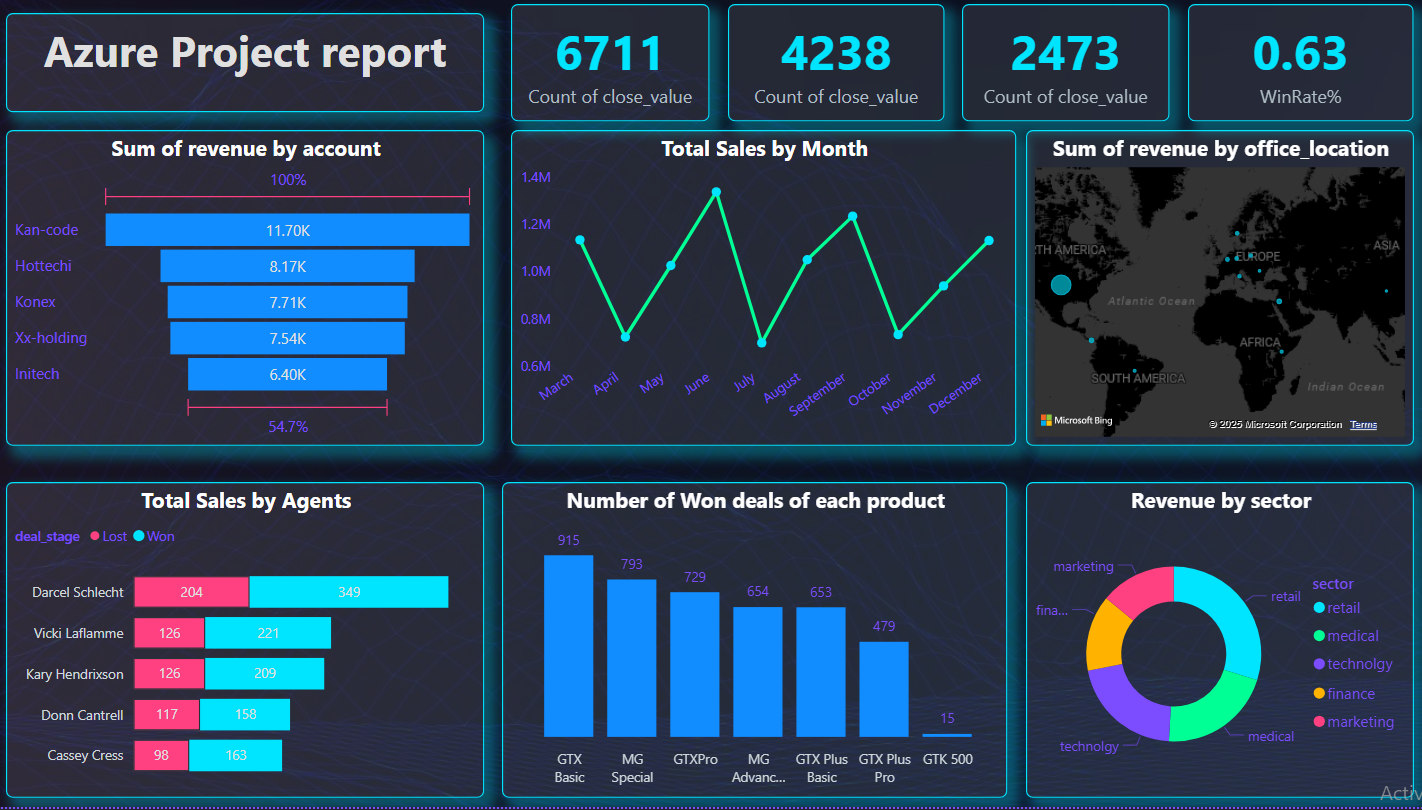

Layout of this report page (visuals, bound fields, positions):
{"tool":"powerbi","page":{"name":"Page 1","canvas":[1280,720],"ordinal":0},"visuals":[{"type":"barChart","title":"Total Sales by Agents","fields":{"Category":["Sales_pipeline.sales_agent"],"Y":["Sales_pipeline.close_value"],"Series":["Sales_pipeline.deal_stage"]},"box":[16,432,424,280],"z":0},{"type":"lineChart","title":"Total Sales by Month","fields":{"Y":["Sales_pipeline.close_value"],"Category":["Sales_pipeline.close_date.Variation.Date Hierarchy.Month"]},"box":[464,120,448,280],"z":1000},{"type":"map","fields":{"Category":["Accounts.office_location"],"Size":["Accounts.revenue"]},"box":[920,120,344,280],"z":2000},{"type":"funnel","fields":{"Y":["Accounts.revenue"],"Category":["Accounts.account"]},"box":[16,120,424,280],"z":3000},{"type":"columnChart","title":"Number of Won deals of each product","fields":{"Category":["Sales_pipeline.product"],"Y":["Sales_pipeline.deal_stage"]},"box":[456,432,448,280],"z":4000},{"type":"donutChart","title":"Revenue by sector","fields":{"Y":["Accounts.revenue"],"Category":["Accounts.sector"]},"box":[920,432,344,280],"z":5000},{"type":"card","fields":{"Values":["Sales_pipeline.close_value"]},"box":[464,8,176,104],"z":6000},{"type":"card","fields":{"Values":["Sales_pipeline.close_value"]},"box":[656,8,192,104],"z":7000},{"type":"card","fields":{"Values":["Sales_pipeline.close_value"]},"box":[864,8,184,104],"z":8000},{"type":"card","fields":{"Values":["Accounts.WinRate%"]},"box":[1064,8,200,104],"z":9000},{"type":"textbox","box":[16,16,424,88],"z":10000}]}

Visuals, with their boxes in screenshot pixels (x1, y1, x2, y2), scaled from the page's 1280x720 canvas onto the 1422x810 screenshot:
"Total Sales by Agents" barChart: [18, 486, 489, 801]
"Total Sales by Month" lineChart: [515, 135, 1013, 450]
map - Accounts.office_location x Accounts.revenue: [1022, 135, 1404, 450]
funnel - Accounts.revenue x Accounts.account: [18, 135, 489, 450]
"Number of Won deals of each product" columnChart: [507, 486, 1004, 801]
"Revenue by sector" donutChart: [1022, 486, 1404, 801]
card - Sales_pipeline.close_value: [515, 9, 711, 126]
card - Sales_pipeline.close_value: [729, 9, 942, 126]
card - Sales_pipeline.close_value: [960, 9, 1164, 126]
card - Accounts.WinRate%: [1182, 9, 1404, 126]
textbox: [18, 18, 489, 117]
